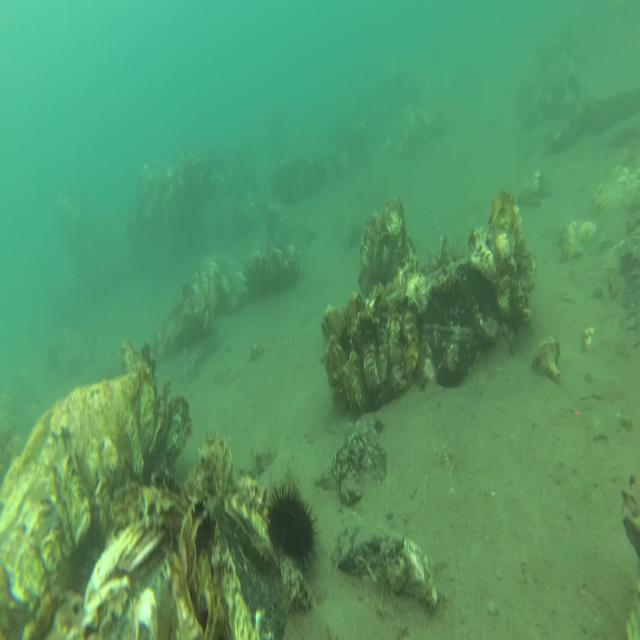echinus: (266, 480, 320, 570), (264, 206, 282, 236), (357, 152, 370, 167)
holothurian: (236, 444, 274, 479)
